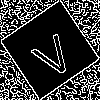V: (25, 25, 78, 82)
